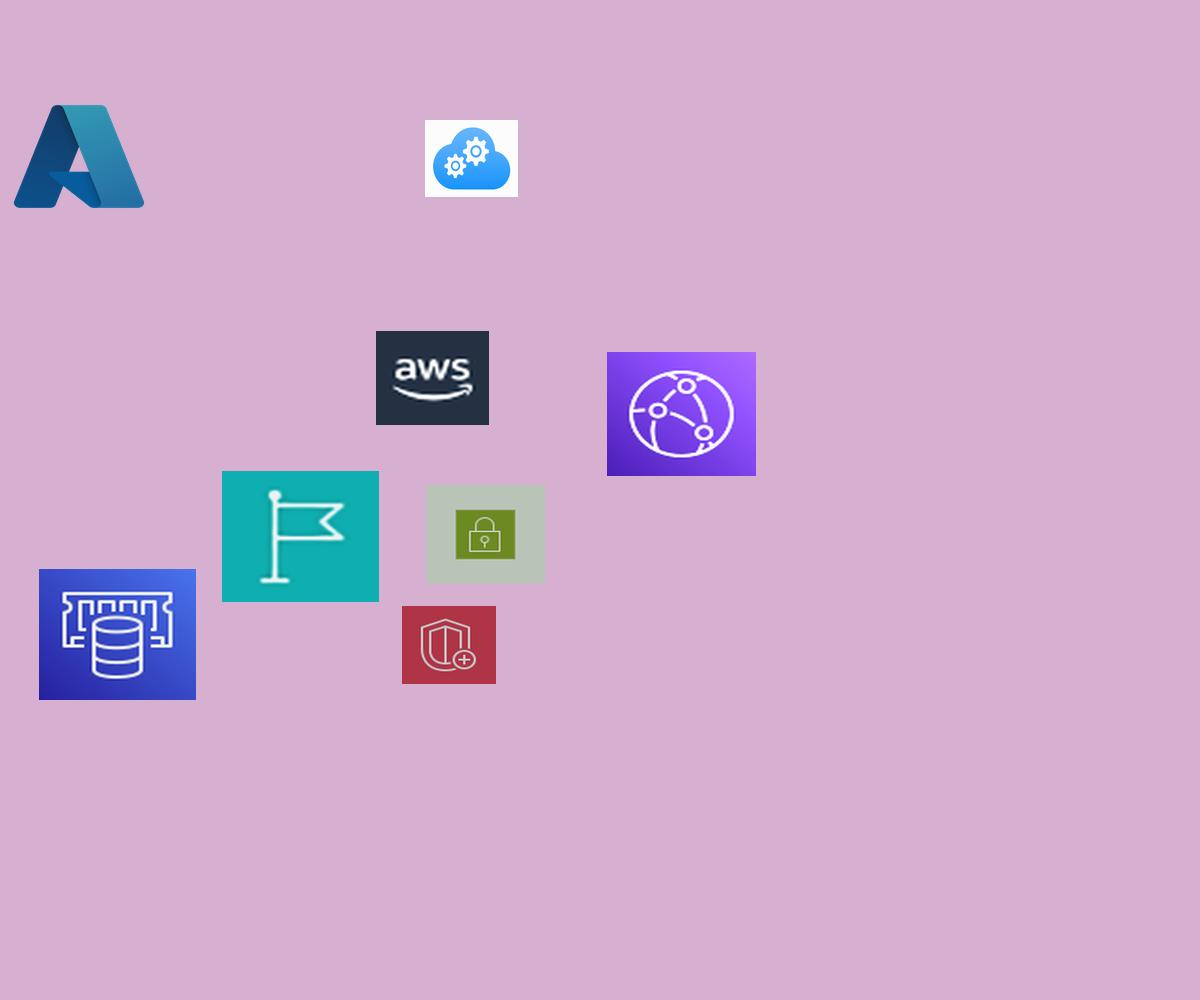AWS-Cloud-logo: (376, 331, 489, 425)
AWS-CloudFront: (607, 352, 756, 476)
AWS-ElastiCache: (39, 569, 196, 700)
AWS-Public-subnet: (426, 485, 545, 584)
AWS-Region: (222, 471, 379, 602)
AWS-Shield: (402, 606, 496, 684)
Azure_cloud_services: (425, 120, 518, 197)
Azure_services: (8, 97, 150, 216)
